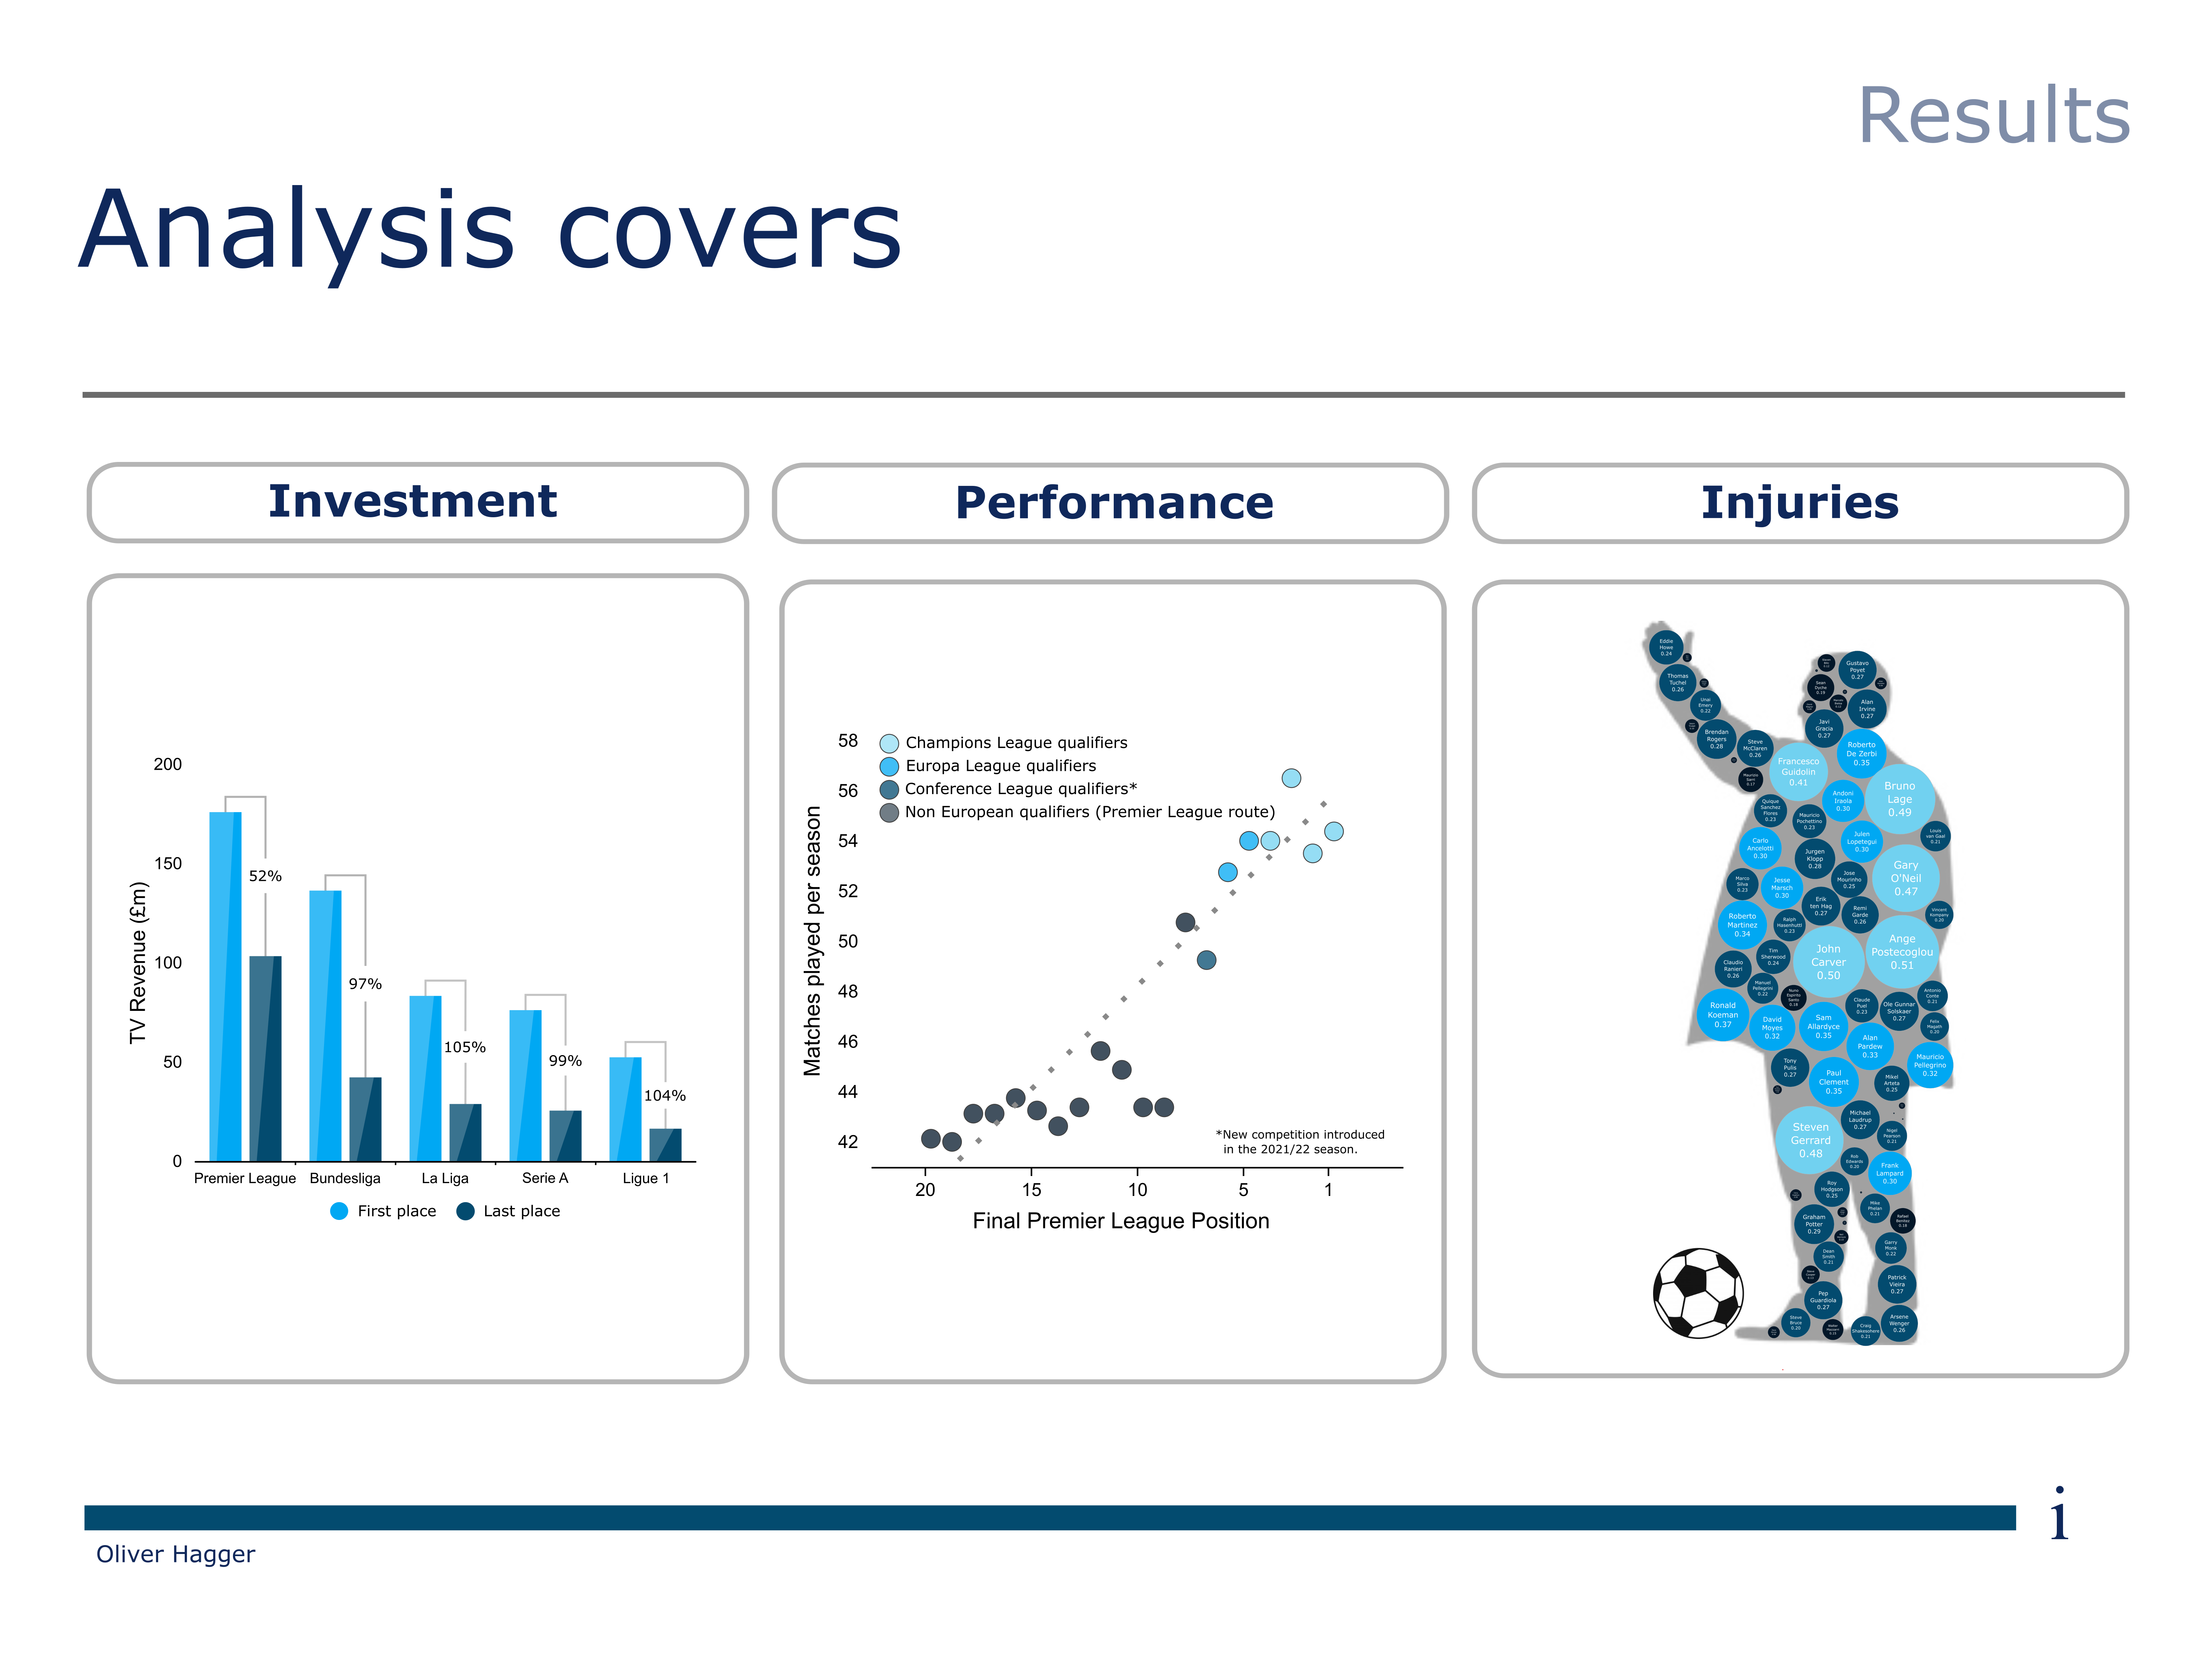

The page's visual inventory and layout, read from the dashboard file:
{"tool":"tableau","page":{"name":"Dashboard 1","canvas":[1450,850],"ordinal":0},"visuals":[{"type":"text","box":[23,8,992,65]},{"type":"text","box":[1225,9,187,75]},{"type":"worksheet","title":"Sheet 3 (2)","mark":"Automatic","box":[1177,24,40,40]},{"type":"text","box":[1225,63,221,75]},{"type":"worksheet","title":"Sheet 4 (2)","mark":"Automatic","box":[1177,83,40,40]},{"type":"image","param":"Image/Olympic_rings_without_rims.svg","box":[44,98,172,90]},{"type":"text","box":[768,113,100,30]},{"type":"text","box":[335,219,140,30]},{"type":"text","box":[23,231,305,152]},{"type":"text","box":[530,338,140,30]},{"type":"text","box":[21,361,305,104]},{"type":"text","box":[1089,371,140,30]},{"type":"text","box":[1146,480,140,30]},{"type":"text","box":[104,497,40,28]},{"type":"text","box":[378,567,305,104]},{"type":"text","box":[652,598,140,30]},{"type":"text","box":[104,602,40,40]},{"type":"text","box":[1082,636,127,72]},{"type":"text","box":[190,639,40,40]},{"type":"text","box":[709,676,108,58]},{"type":"text","box":[278,683,40,40]},{"type":"worksheet","title":"Sheet 4","mark":"Automatic","box":[659,686,40,40]},{"type":"text","box":[190,703,40,40]},{"type":"worksheet","title":"Sheet 8","mark":"Automatic","rows":["Country (Host cities for Summer and Wint) (copy)_28009575111"],"cols":["Year"],"box":[933,711,362,126]},{"type":"text","box":[104,727,40,40]},{"type":"text","box":[709,727,108,58]},{"type":"text","box":[366,732,40,40]},{"type":"text","box":[278,737,40,40]},{"type":"worksheet","title":"Sheet 3","mark":"Automatic","box":[659,738,40,40]},{"type":"text","box":[453,755,40,40]},{"type":"text","box":[190,765,40,40]},{"type":"text","box":[539,765,40,40]},{"type":"text","box":[278,775,40,40]}]}

Visuals, with their boxes in screenshot pixels (x1, y1, x2, y2):
text: box=[0, 393, 1502, 494]
text: box=[1830, 394, 2122, 511]
"Sheet 3 (2)" worksheet: box=[1755, 418, 1818, 480]
text: box=[1830, 479, 2175, 595]
"Sheet 4 (2)" worksheet: box=[1755, 509, 1818, 572]
image: box=[0, 533, 256, 674]
text: box=[1117, 556, 1273, 603]
text: box=[442, 722, 660, 769]
text: box=[0, 741, 431, 978]
text: box=[746, 907, 964, 954]
text: box=[0, 943, 428, 1106]
text: box=[1618, 959, 1836, 1006]
text: box=[1707, 1129, 1925, 1176]
text: box=[81, 1155, 144, 1199]
text: box=[509, 1265, 985, 1427]
text: box=[936, 1313, 1155, 1360]
text: box=[81, 1319, 144, 1381]
text: box=[1607, 1372, 1805, 1485]
text: box=[216, 1377, 278, 1439]
text: box=[1025, 1434, 1194, 1525]
text: box=[353, 1446, 415, 1508]
"Sheet 4" worksheet: box=[947, 1450, 1010, 1513]
text: box=[216, 1477, 278, 1539]
"Sheet 8" worksheet: box=[1375, 1489, 1939, 1659]
text: box=[81, 1514, 144, 1576]
text: box=[1025, 1514, 1194, 1604]
text: box=[490, 1522, 553, 1584]
text: box=[353, 1530, 415, 1592]
"Sheet 3" worksheet: box=[947, 1531, 1010, 1594]
text: box=[626, 1558, 688, 1620]
text: box=[216, 1573, 278, 1636]
text: box=[760, 1573, 822, 1636]
text: box=[353, 1589, 415, 1651]
